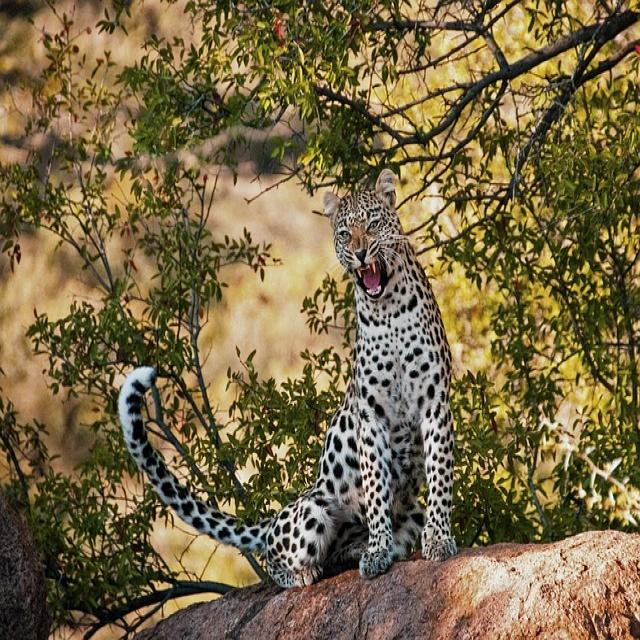Carnivorous: (117, 169, 459, 591)
